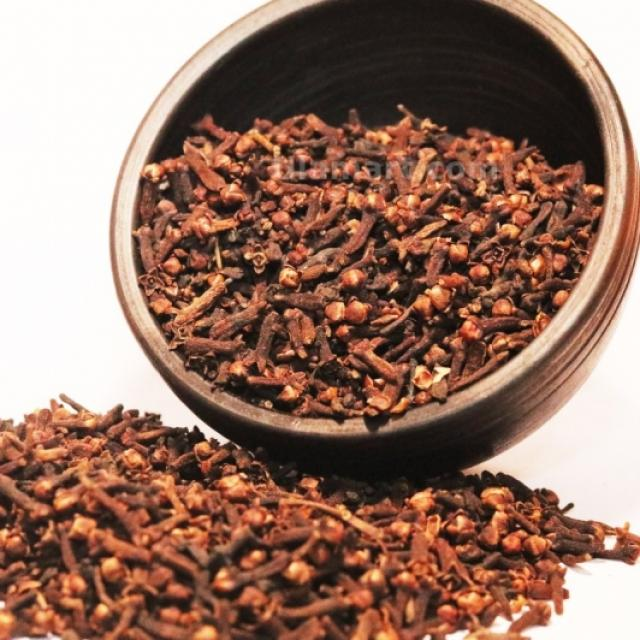clove: (0, 395, 640, 640), (130, 110, 604, 430)
